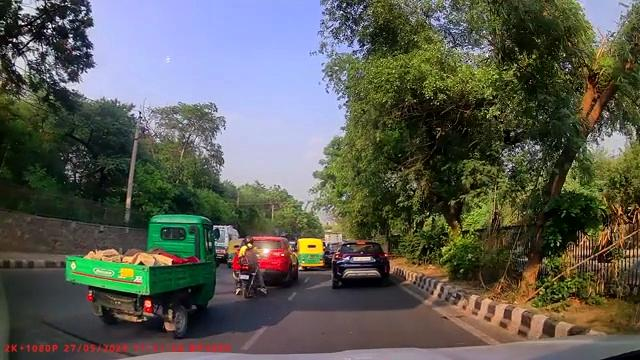motorcycle_with_helmet: (232, 236, 269, 299)
